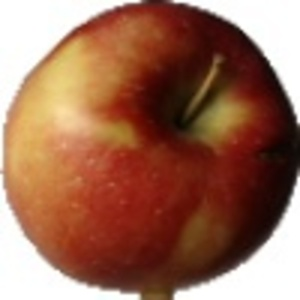maçã braeburn: (1, 1, 299, 291)
